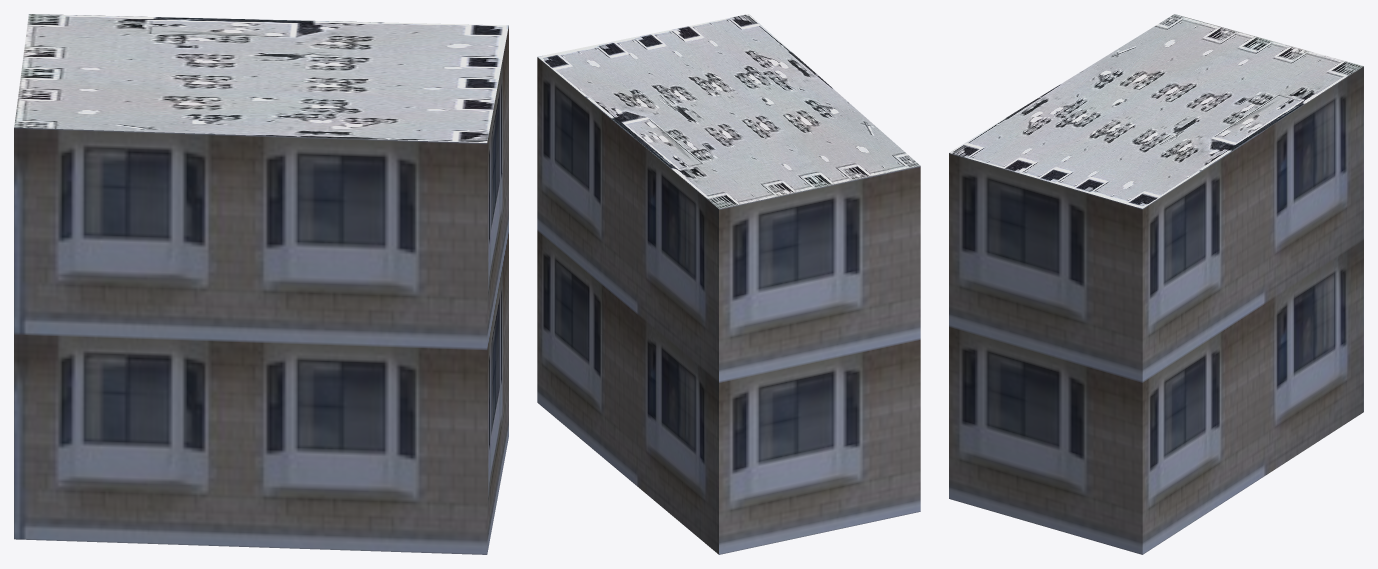
The model's file is ResTex__3679.fbx.
The picture shows the model from 3 angles, left to right: view 1: azimuth 30°, elevation 25°; view 2: azimuth 150°, elevation 25°; view 3: azimuth 270°, elevation 25°; orthographic projection. The views are drawn at different scales.
Visible parts, largest first — view 1: CityEngineMaterial_3_m, CityEngineMaterial_8_m; view 2: CityEngineMaterial_3_m, CityEngineMaterial_8_m; view 3: CityEngineMaterial_3_m, CityEngineMaterial_8_m.
Boxes of the visible parts, x1,y1,x2,y2 form: CityEngineMaterial_3_m: [14, 26, 508, 554]; CityEngineMaterial_8_m: [14, 14, 508, 142]; CityEngineMaterial_3_m: [537, 57, 920, 554]; CityEngineMaterial_8_m: [537, 14, 920, 208]; CityEngineMaterial_3_m: [949, 66, 1363, 554]; CityEngineMaterial_8_m: [949, 14, 1363, 208].
Size of the model in its own units: 7.25 by 6 by 6.52.
Materials: 2 (2 with a texture image).
